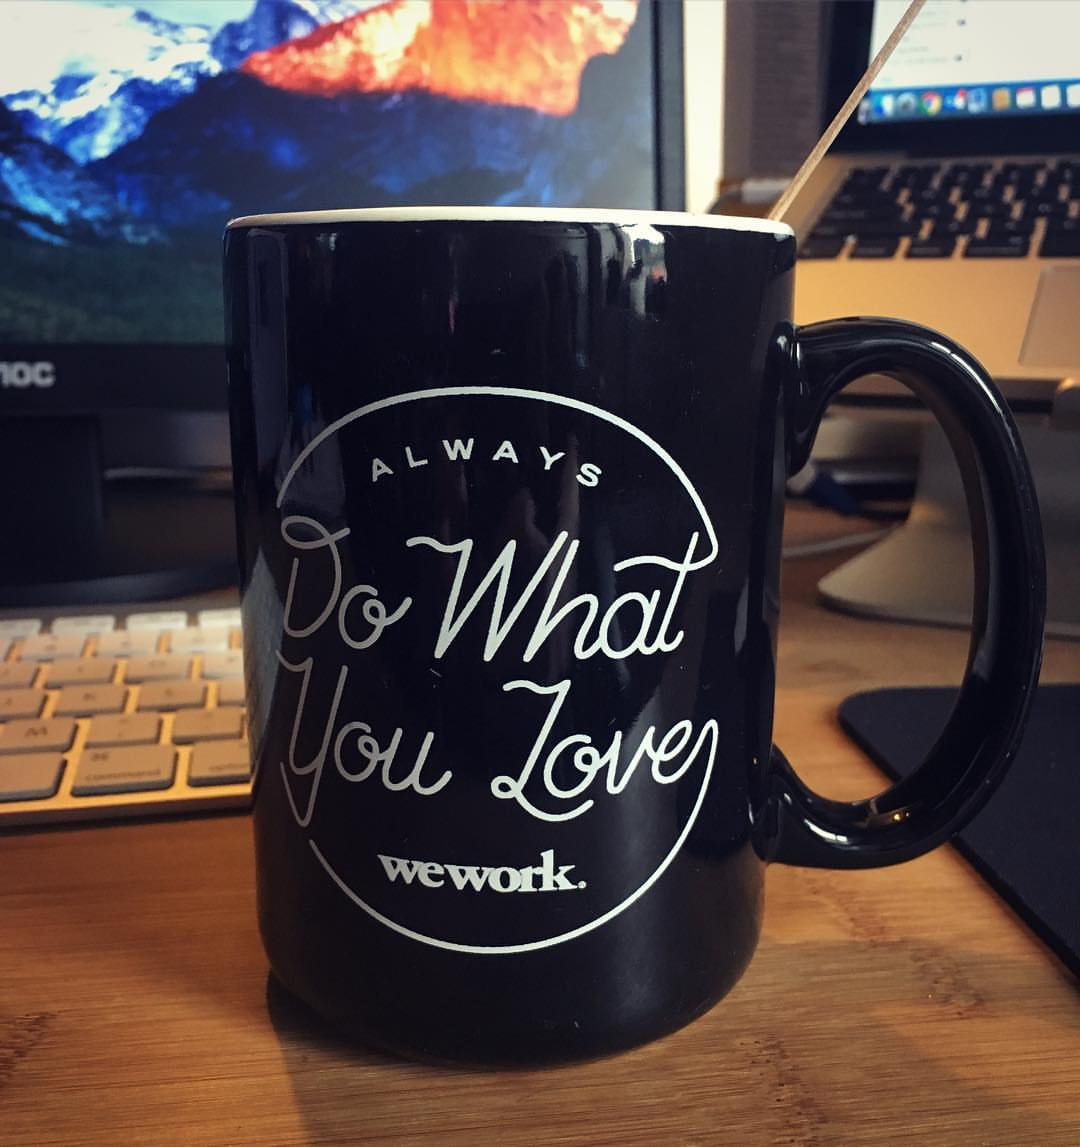wework: (376, 842, 582, 897)
